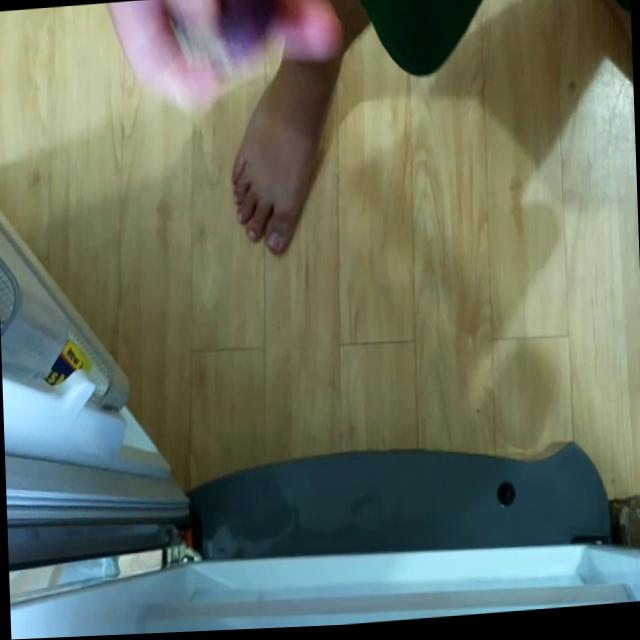onion: (182, 0, 283, 67)
